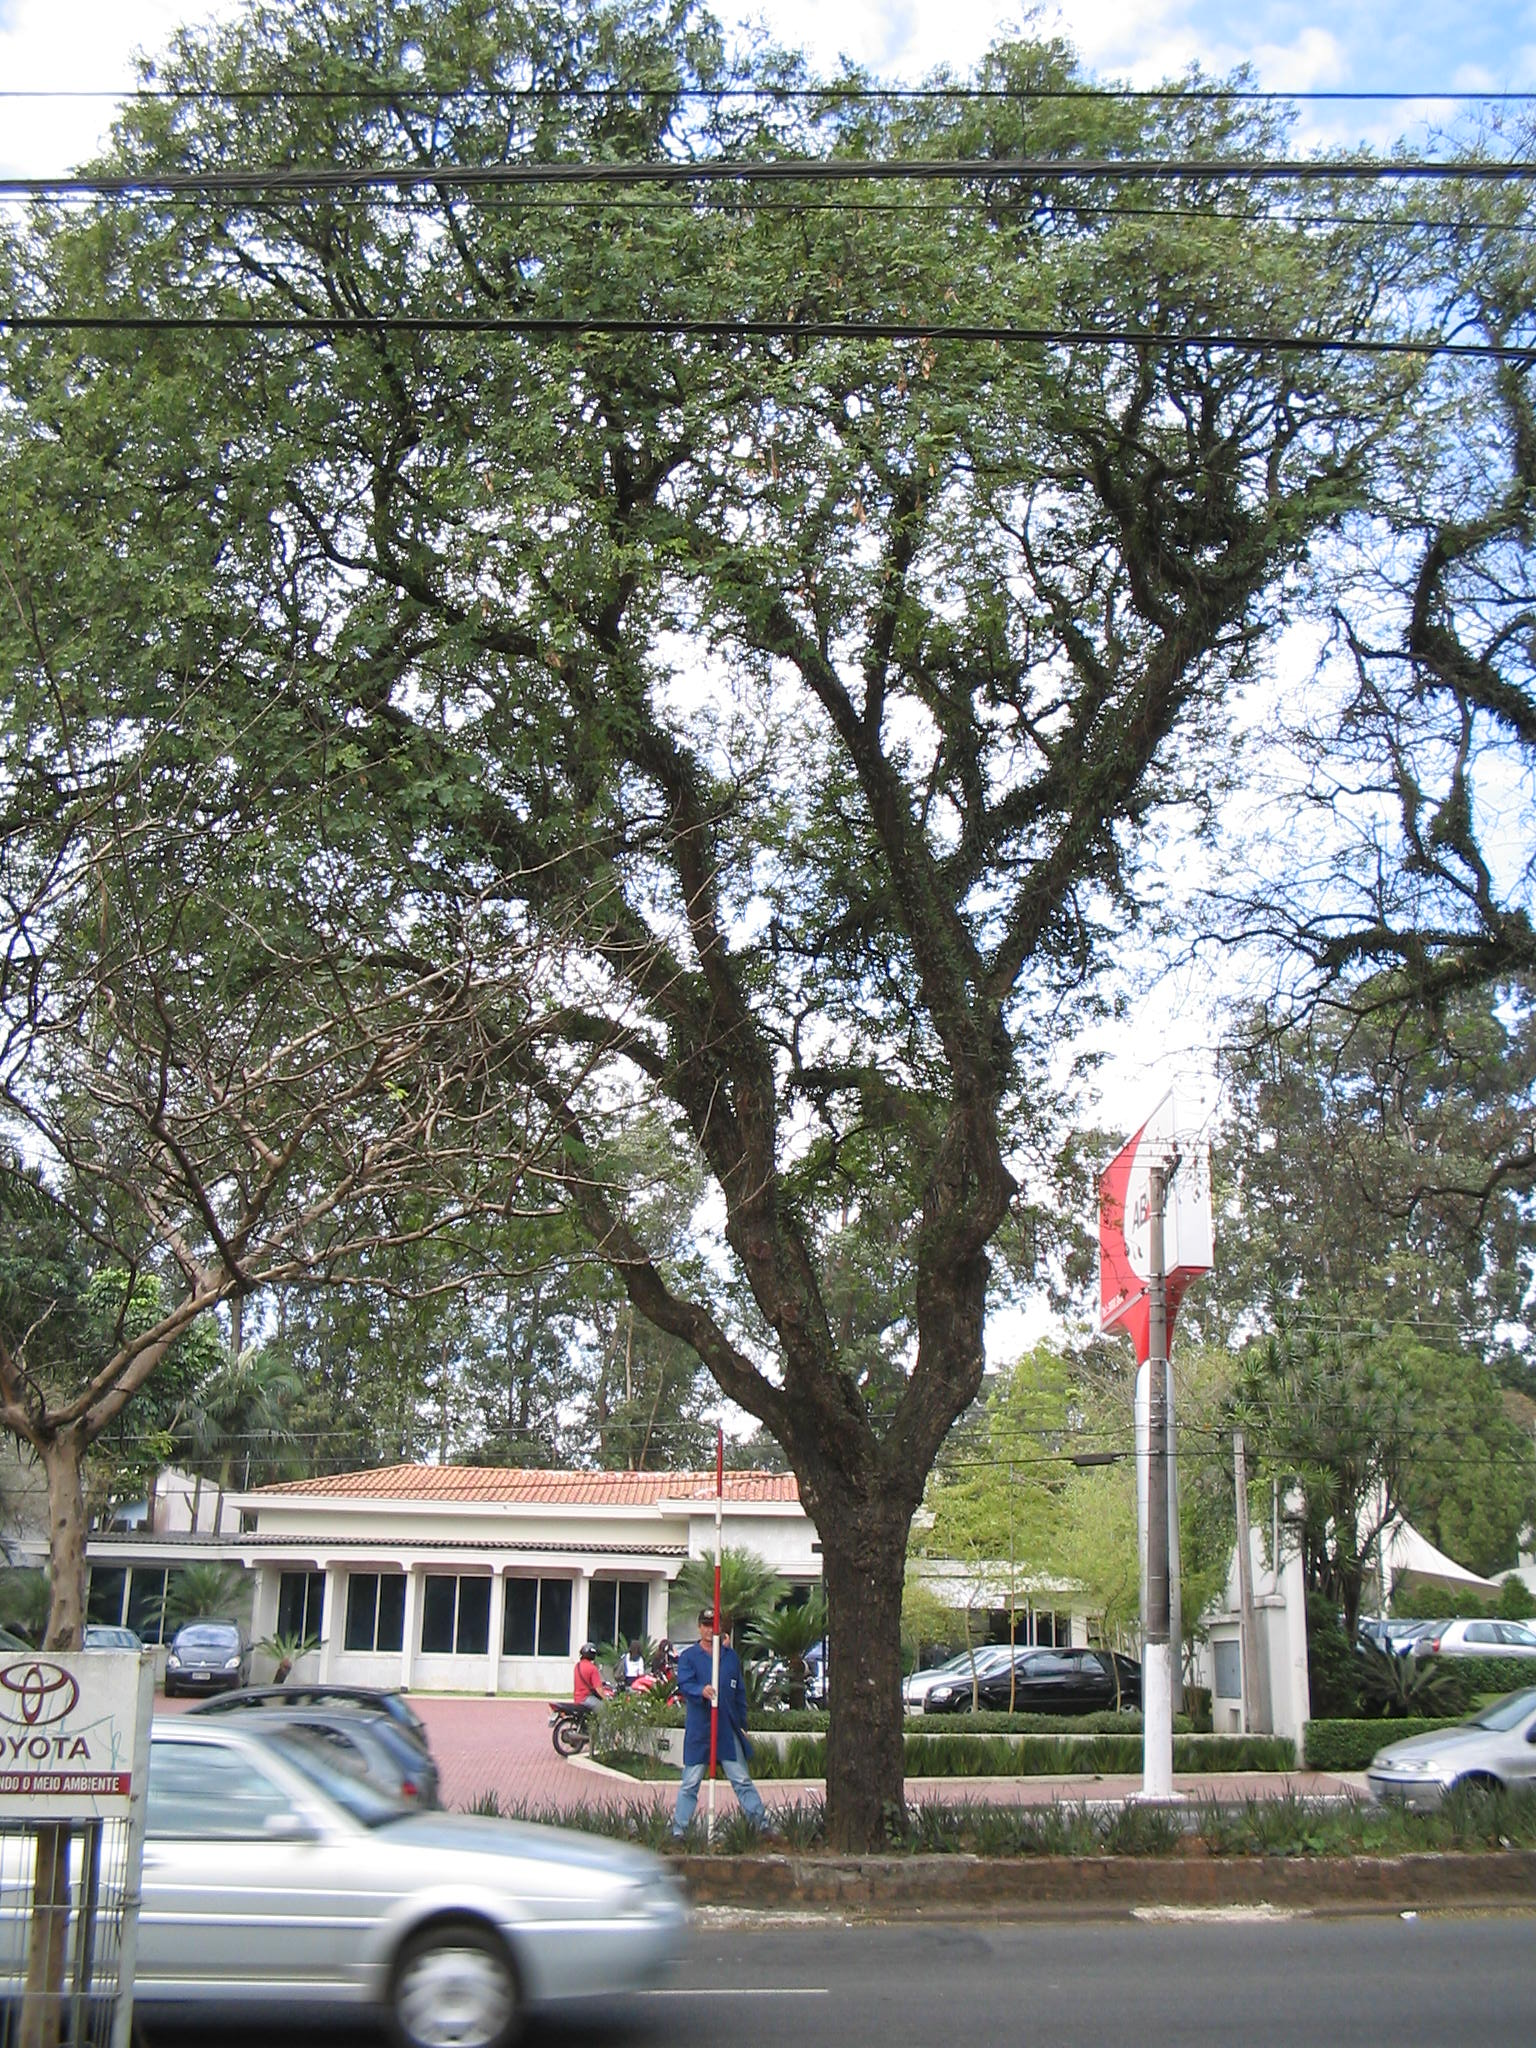crown: (10, 11, 1467, 1145)
stem: (762, 1461, 983, 1850)
stick: (676, 1426, 749, 1853)
tree: (3, 8, 1475, 1854)
